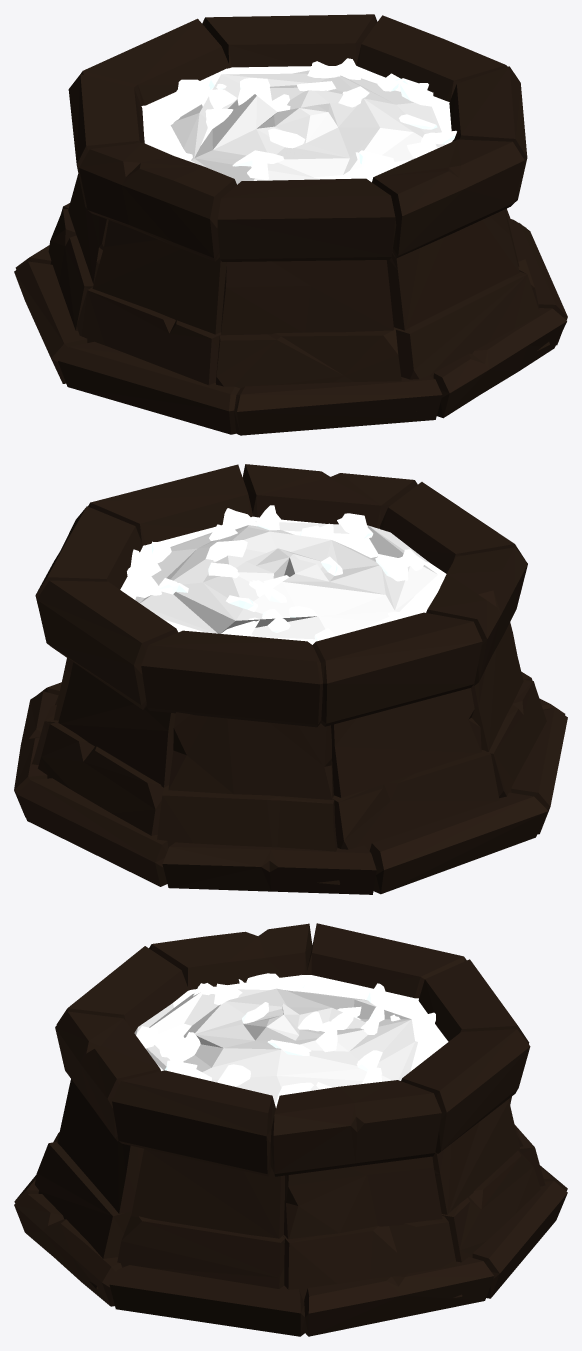
File: SFFA_Forge_Coal_Prop.fbx
3 renders of one model, top to bottom at view 1: azimuth 30°, elevation 25°; view 2: azimuth 150°, elevation 25°; view 3: azimuth 270°, elevation 25°, orthographic. The views are drawn at different scales.
Parts seen in each view (by area): view 1: SFFA_Forge_Coal_Prop; view 2: SFFA_Forge_Coal_Prop; view 3: SFFA_Forge_Coal_Prop.
Part boxes in pixels (x1,y1,x2,y2): SFFA_Forge_Coal_Prop: (14, 14, 567, 435); SFFA_Forge_Coal_Prop: (14, 464, 567, 894); SFFA_Forge_Coal_Prop: (14, 923, 567, 1336).
Size of the model in its own units: 138 by 59.24 by 138.
